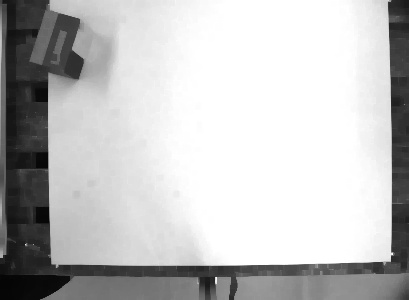b4: (26, 9, 94, 81)
